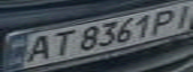1: (130, 12, 160, 39)
3: (96, 19, 121, 48)
6: (115, 16, 139, 44)
8: (75, 22, 103, 52)
A: (15, 33, 57, 64)
I: (166, 1, 193, 30)
P: (145, 7, 187, 35)
T: (42, 28, 78, 57)
